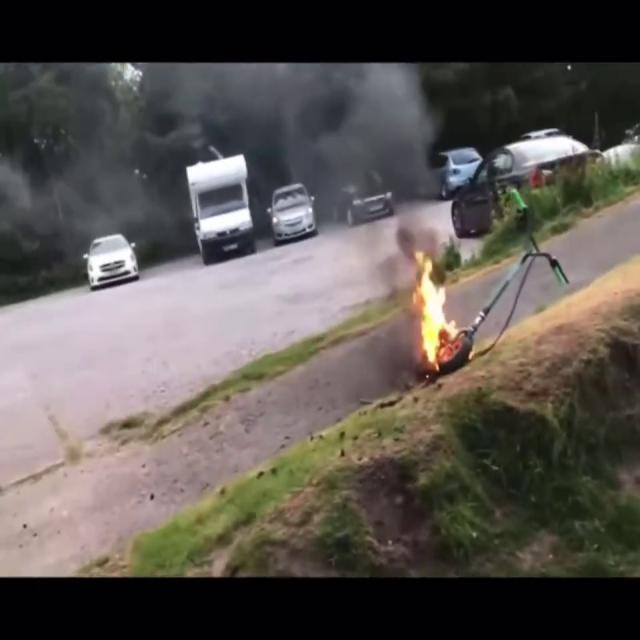Fire: (410, 245, 458, 368)
Smoke: (174, 58, 454, 242), (0, 64, 191, 252)
